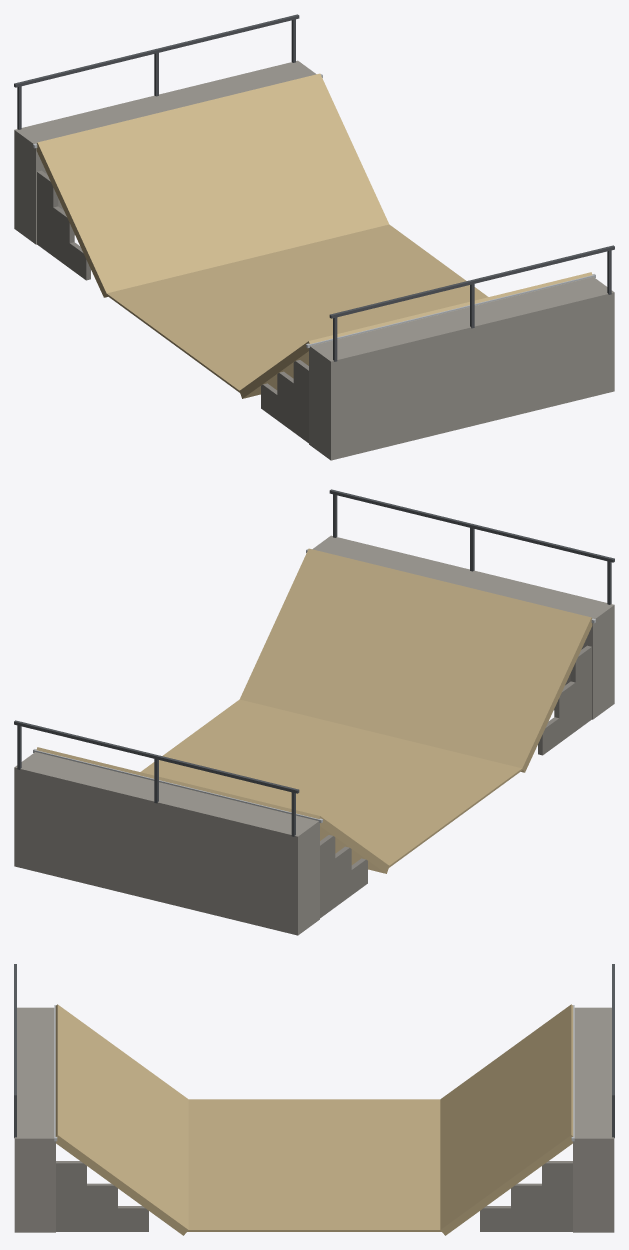
File: half_pipe.glb
The picture shows the model from 3 angles, top to bottom: view 1: azimuth 30°, elevation 25°; view 2: azimuth 150°, elevation 25°; view 3: azimuth 270°, elevation 25°; orthographic projection. The views are drawn at different scales.
Parts seen in each view (by area): view 1: Box3, Box14, Box27, Box1, Box16, Box10, Box23, Box4, Box17, Box6, Box19, Box15; view 2: Box16, Box1, Box27, Box14, Box3, Box10, Box23, Box17, Box4, Box19, Box6, Box2; view 3: Box27, Box3, Box16, Box1, Box14, Box5, Box18, Box7, Box20, Box9, Box22, Box10 (+1 smaller).
Part boxes in pixels (left/top/right/bottom): Box3: left=36, top=73, right=389, bottom=297; Box14: left=309, top=277, right=614, bottom=460; Box27: left=106, top=224, right=488, bottom=393; Box1: left=14, top=60, right=316, bottom=244; Box16: left=240, top=272, right=592, bottom=398; Box10: left=14, top=14, right=299, bottom=87; Box23: left=329, top=245, right=614, bottom=318; Box4: left=37, top=170, right=58, bottom=255; Box17: left=293, top=360, right=308, bottom=443; Box6: left=53, top=206, right=74, bottom=267; Box19: left=277, top=371, right=293, bottom=431; Box15: left=306, top=274, right=595, bottom=348; Box16: left=239, top=548, right=592, bottom=772; Box1: left=14, top=752, right=319, bottom=935; Box27: left=140, top=699, right=523, bottom=868; Box14: left=312, top=535, right=614, bottom=719; Box3: left=36, top=747, right=389, bottom=873; Box10: left=14, top=720, right=299, bottom=793; Box23: left=329, top=489, right=614, bottom=562; Box17: left=570, top=645, right=591, bottom=730; Box4: left=320, top=835, right=335, bottom=918; Box19: left=554, top=681, right=575, bottom=742; Box6: left=335, top=846, right=351, bottom=906; Box2: left=33, top=749, right=322, bottom=823; Box27: left=187, top=1099, right=441, bottom=1231; Box3: left=440, top=1004, right=573, bottom=1235; Box16: left=55, top=1004, right=188, bottom=1235; Box1: left=573, top=1007, right=614, bottom=1232; Box14: left=14, top=1007, right=55, bottom=1232; Box5: left=542, top=1161, right=572, bottom=1231; Box18: left=56, top=1161, right=86, bottom=1231; Box7: left=511, top=1183, right=541, bottom=1231; Box20: left=87, top=1183, right=117, bottom=1231; Box9: left=480, top=1206, right=510, bottom=1231; Box22: left=118, top=1206, right=148, bottom=1231; Box10: left=612, top=964, right=614, bottom=1097.
Size of the model in its own units: 6.1 by 3.01 by 11.62.
